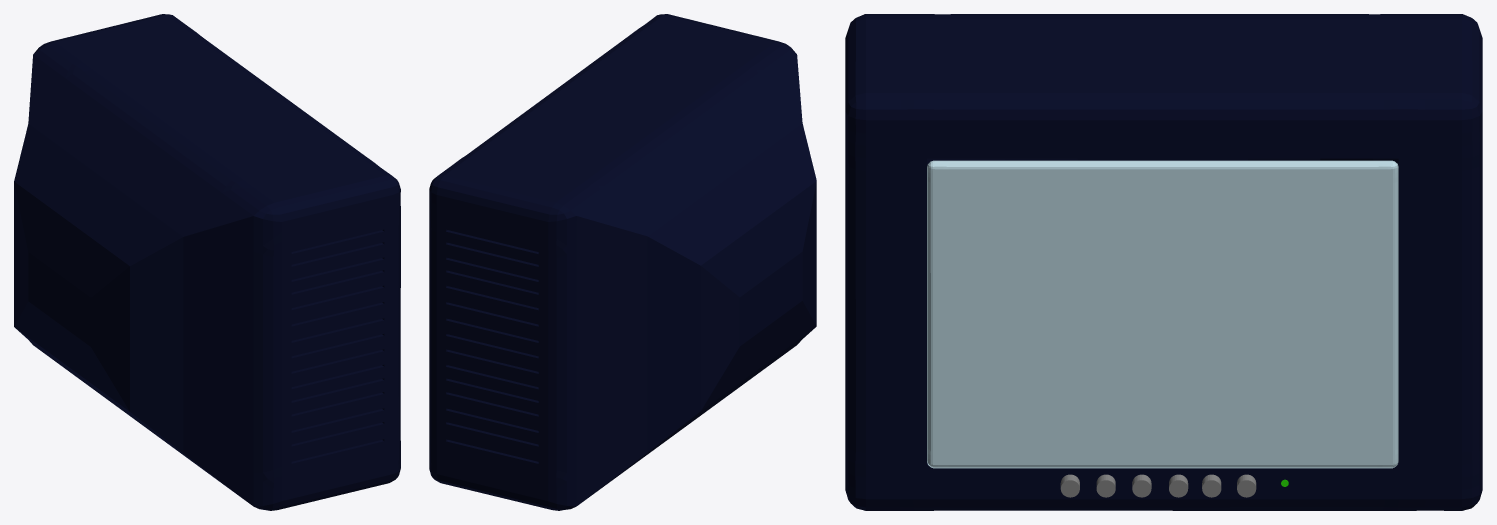
The model's file is Televisao.fbx.
3 views of the same model, side by side, from view 1: azimuth 30°, elevation 25°; view 2: azimuth 150°, elevation 25°; view 3: azimuth 270°, elevation 25° (orthographic). The views are drawn at different scales.
Visible parts, largest first — view 1: Cube; view 2: Cube; view 3: Cube, Cube.001.
Part boxes in pixels (x1,y1,x2,y2): Cube: [14, 14, 400, 510]; Cube: [429, 14, 816, 510]; Cube: [845, 14, 1482, 510]; Cube.001: [927, 160, 1398, 468].
Bounding box in the file's own units: 163 × 200 × 277.
4 materials, 2 textured.
